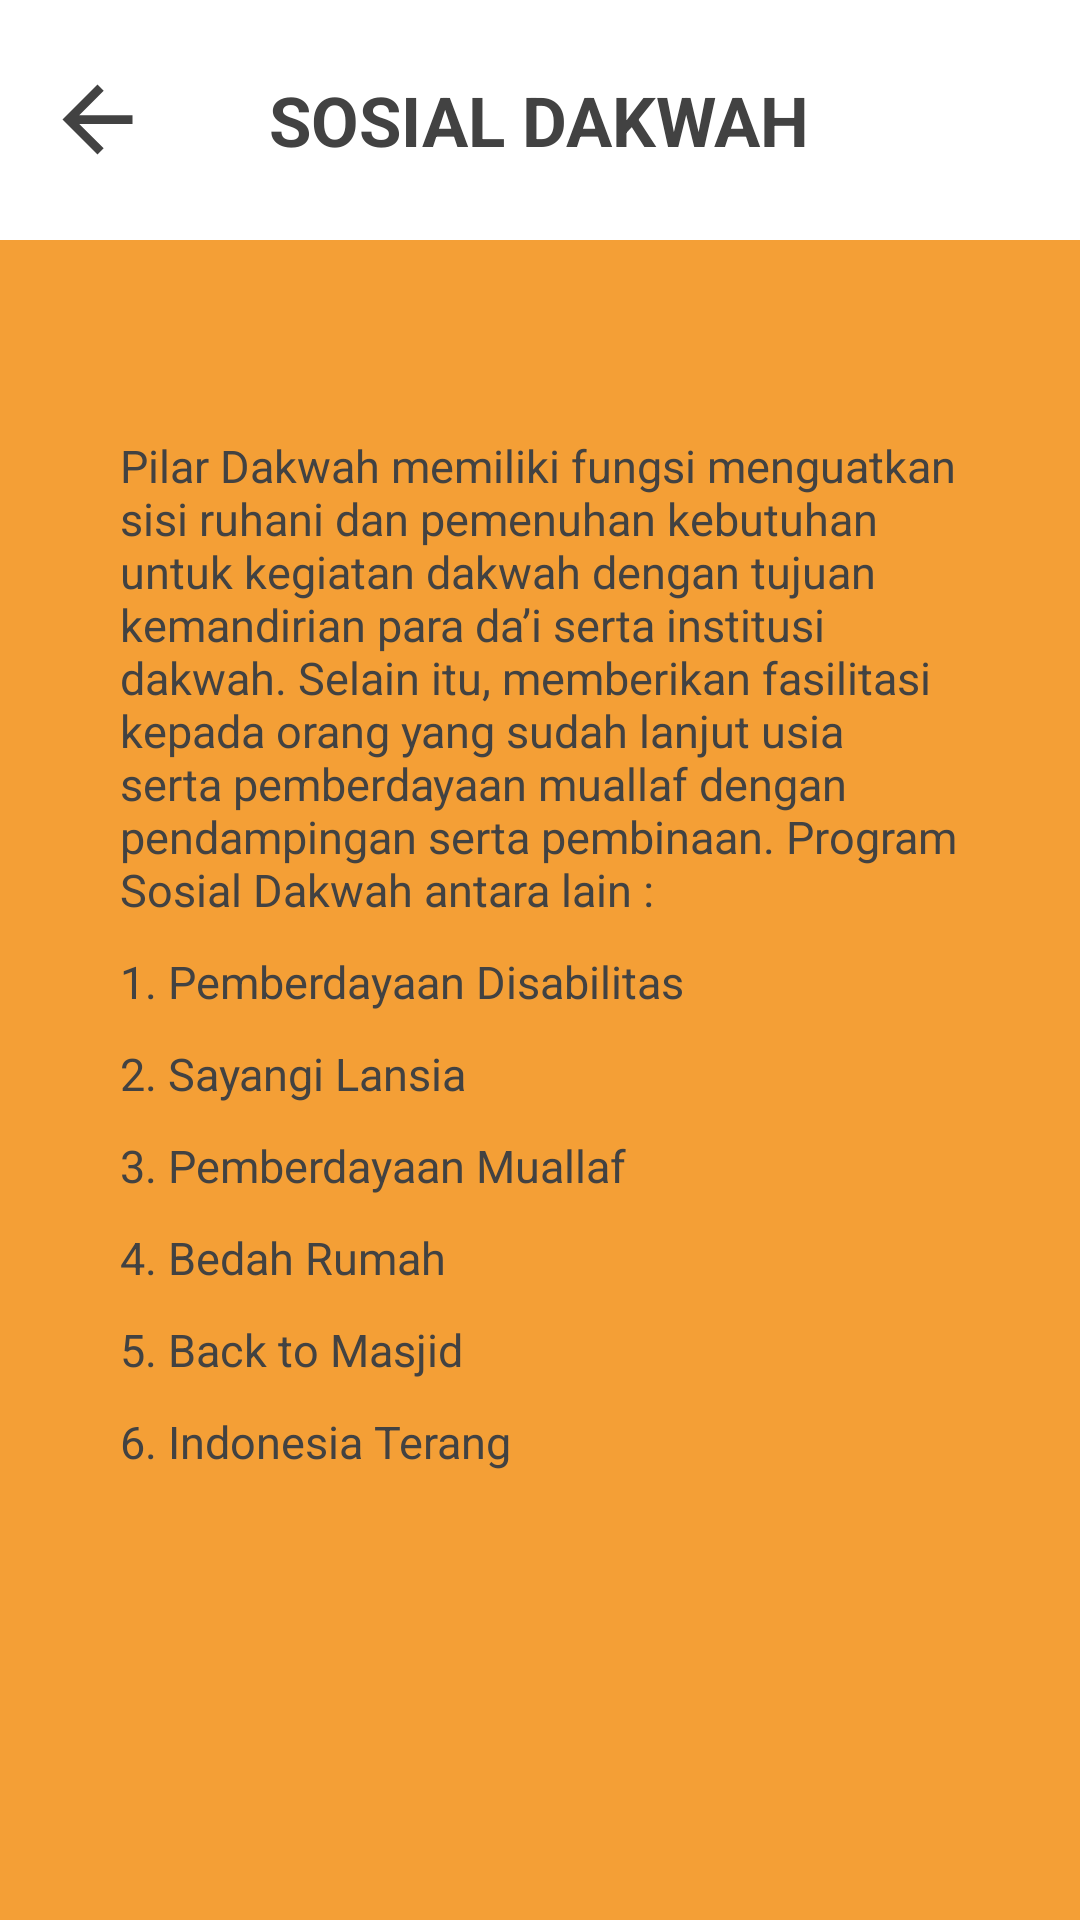

Screen size 1080w x 1920h. Icon name, then its center in pixels as (x,y):
kembaliicondark: (97,119)
